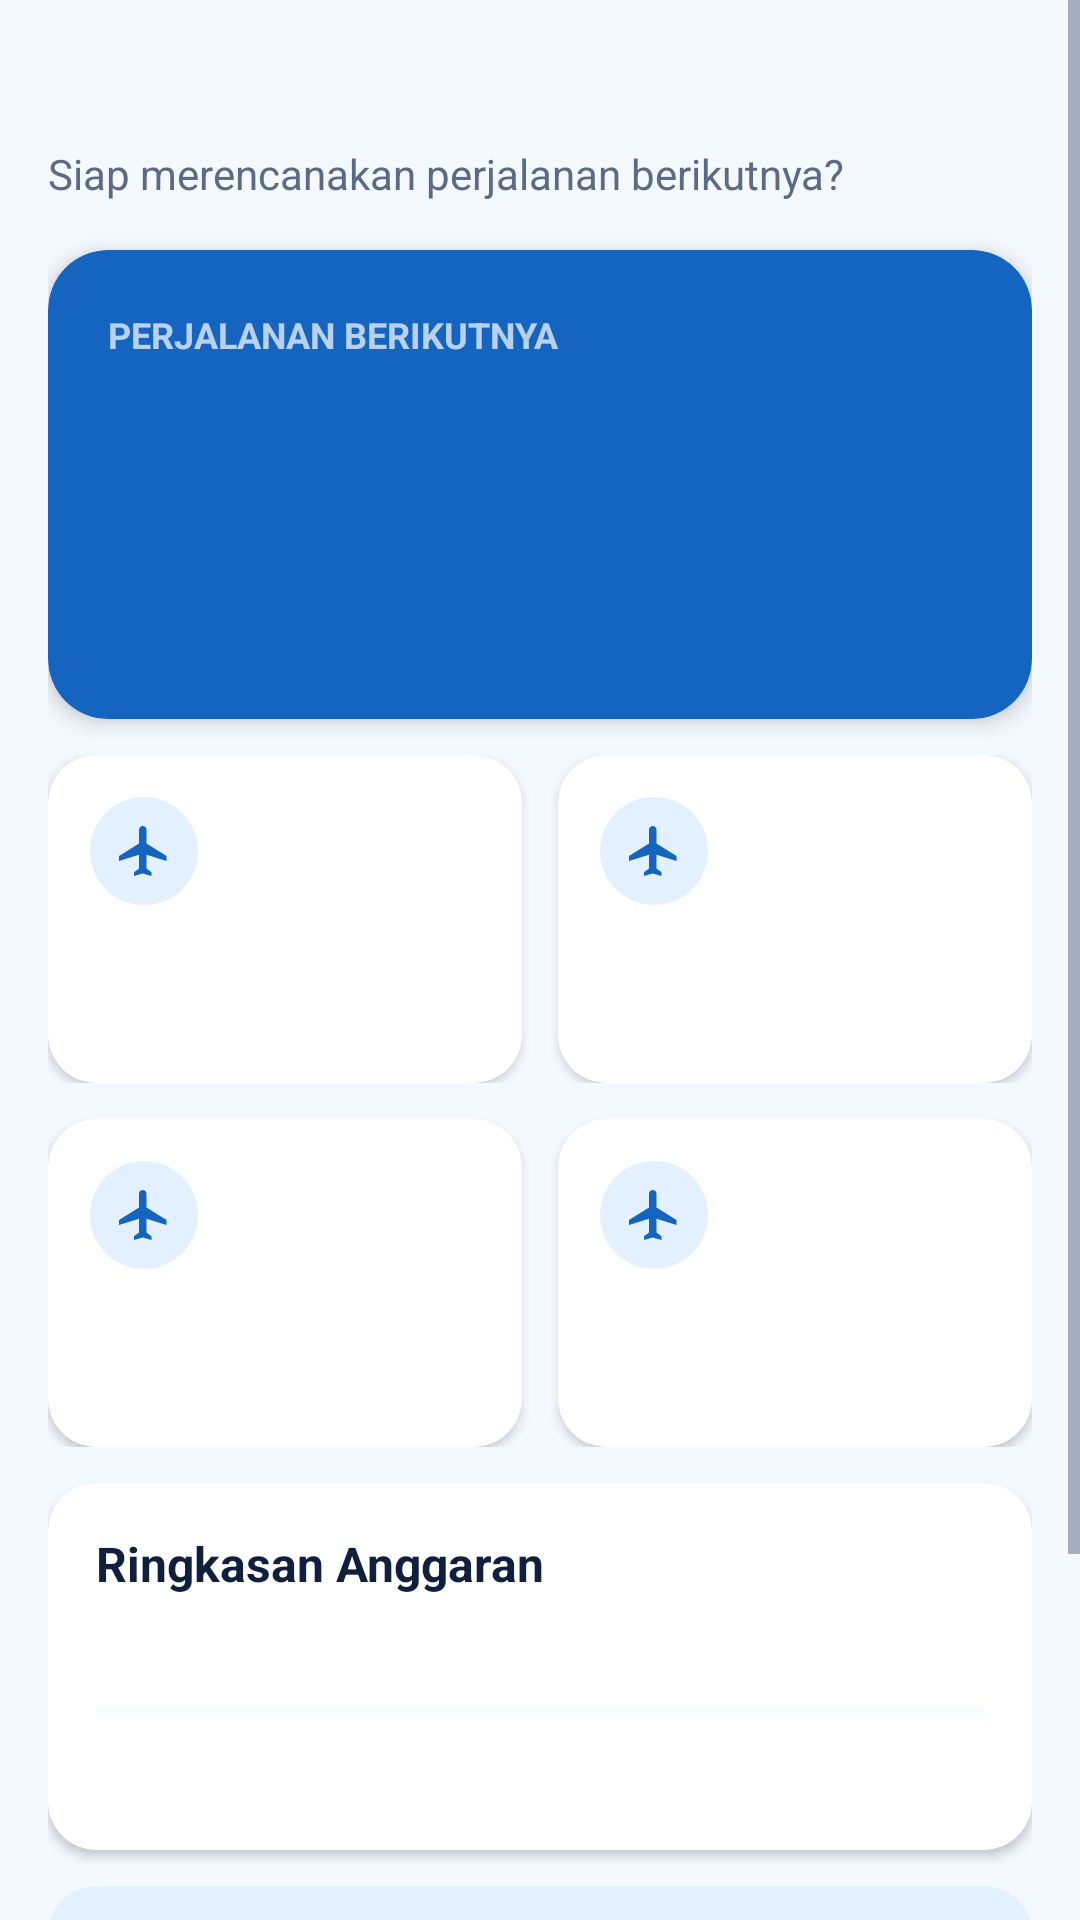

Icon bounding boxes for this 1080*1920 phone screenshot, format (left=x1, top=y1, right=x2, bottom=y2):
Ikon: (left=90, top=797, right=198, bottom=905), (left=600, top=797, right=708, bottom=905), (left=90, top=1161, right=198, bottom=1269), (left=600, top=1161, right=708, bottom=1269)
